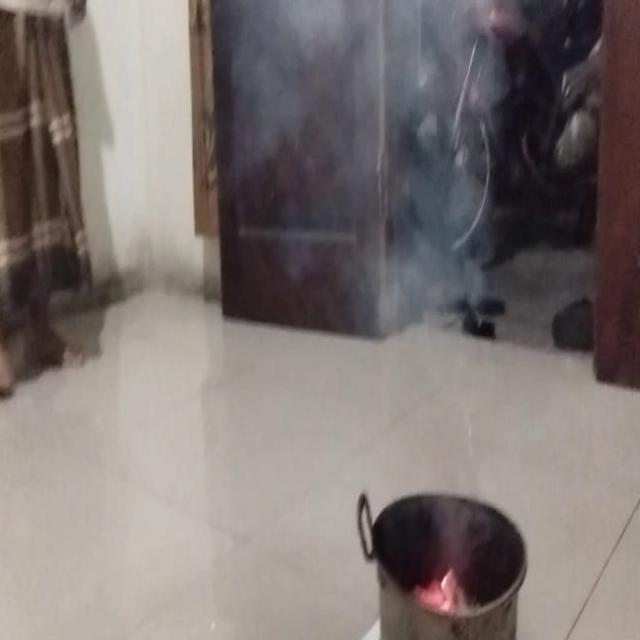fire: (298, 0, 500, 322)
smoke: (414, 562, 470, 618)
